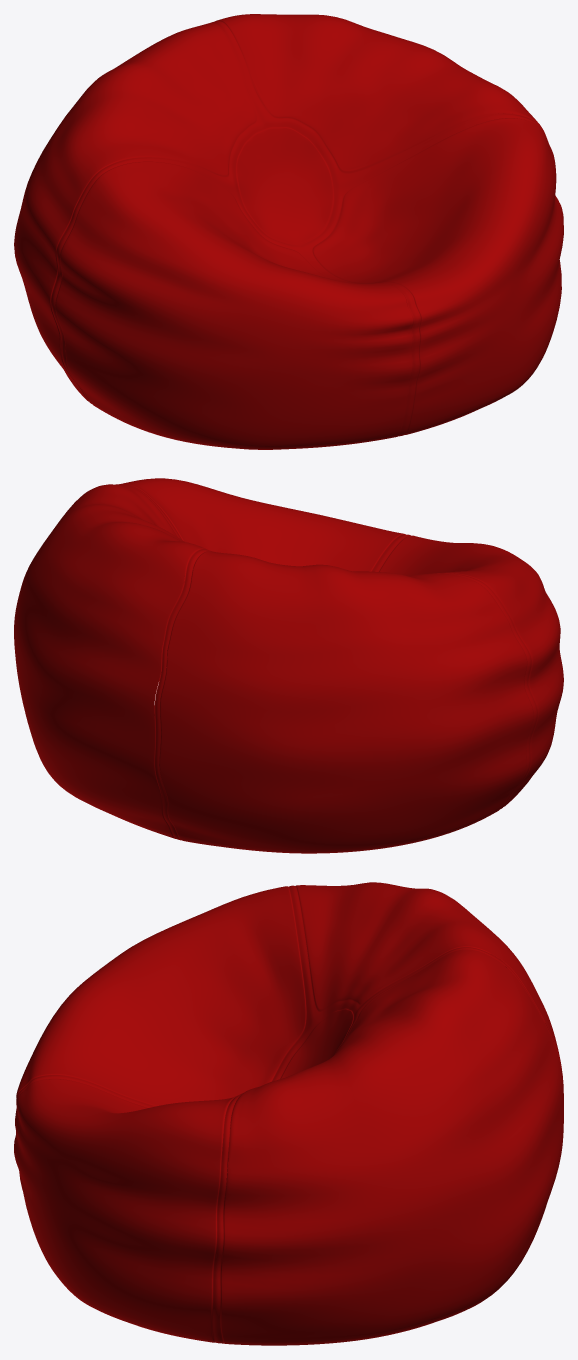
File: beanbag3.fbx
3 renders of one model, top to bottom at view 1: azimuth 30°, elevation 25°; view 2: azimuth 150°, elevation 25°; view 3: azimuth 270°, elevation 25°, orthographic. The views are drawn at different scales.
Visible parts, largest first — view 1: beanbag; view 2: beanbag; view 3: beanbag.
Boxes of the visible parts, left/top/right/bottom form: beanbag: left=14, top=14, right=563, bottom=449; beanbag: left=14, top=478, right=563, bottom=853; beanbag: left=14, top=882, right=563, bottom=1345.
Bounding box in the file's own units: 124 × 65.2 × 111.
